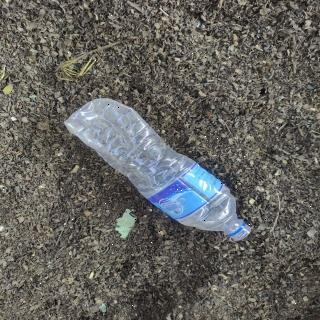Plastic-bottle: (61, 95, 259, 247)
